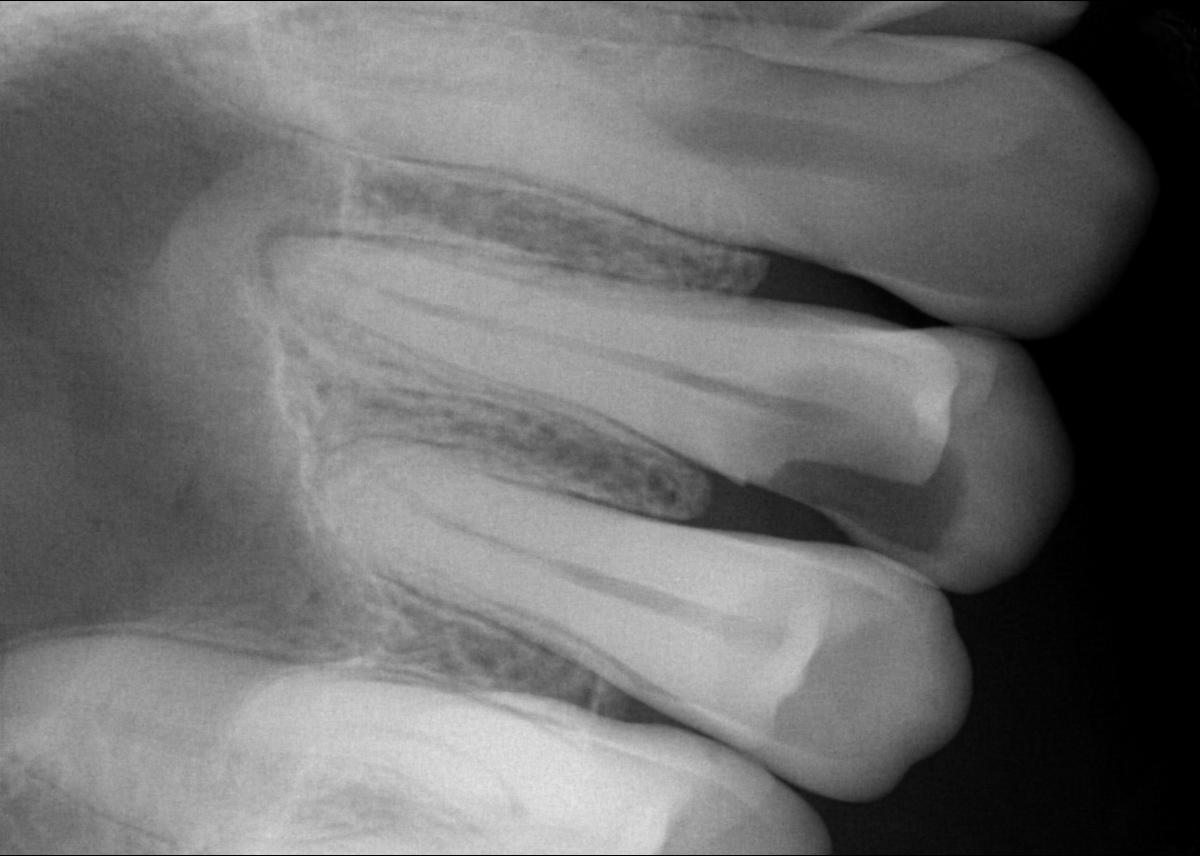Furcation Involvement: (254, 211, 346, 289)
